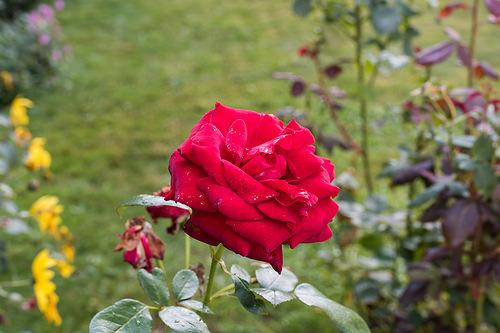Rose: (165, 104, 348, 277)
